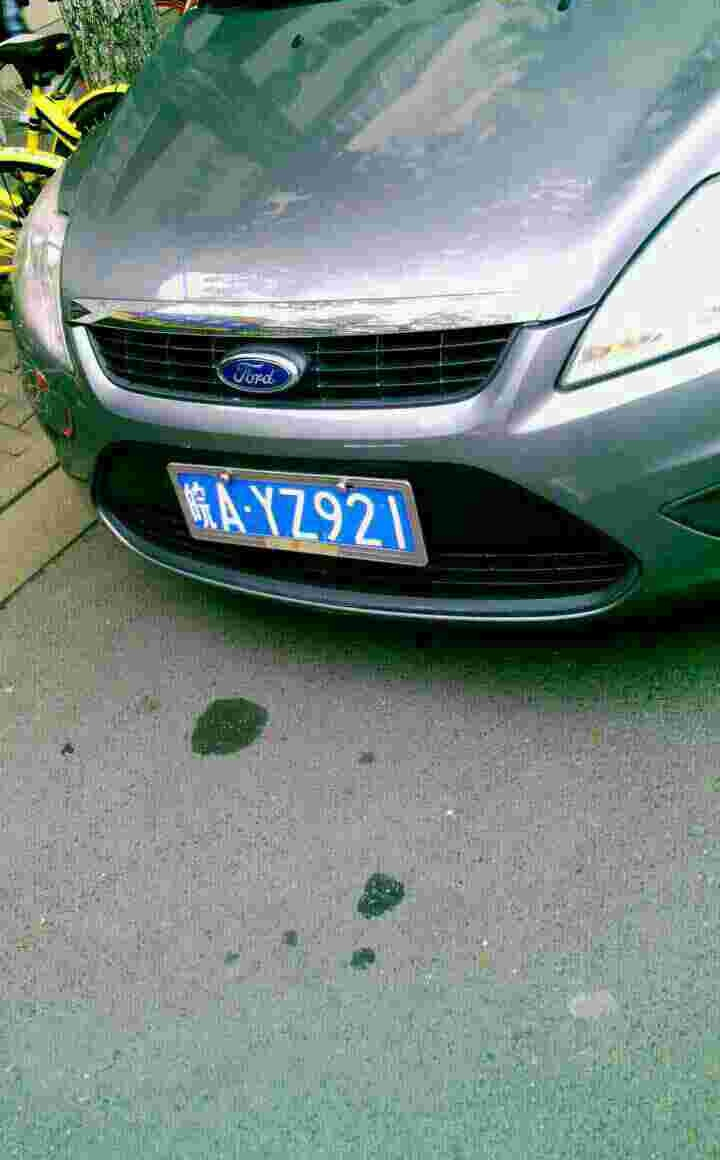license_plate: (187, 469, 420, 556)
